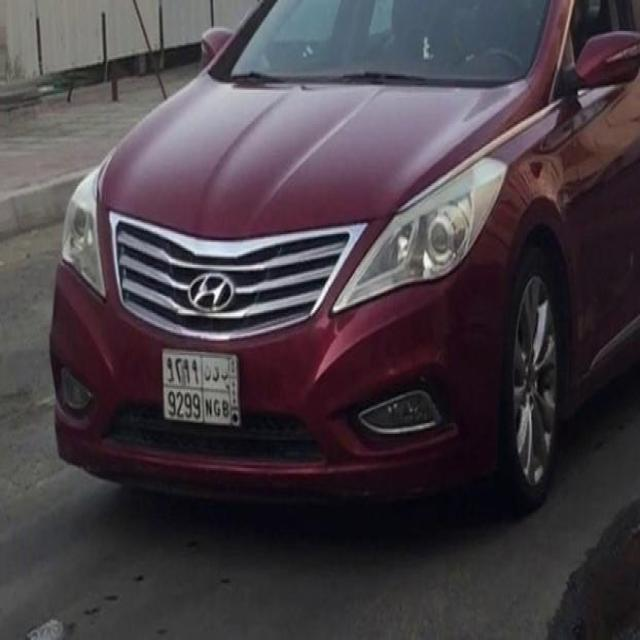Car-plate: (156, 336, 246, 438)
